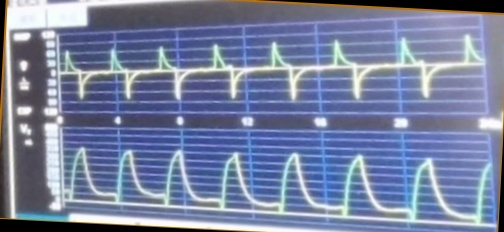Flow: (61, 31, 484, 112)
Leakage Volume: (65, 134, 492, 225)
